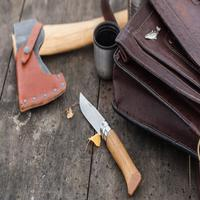knife: (75, 89, 146, 200)
